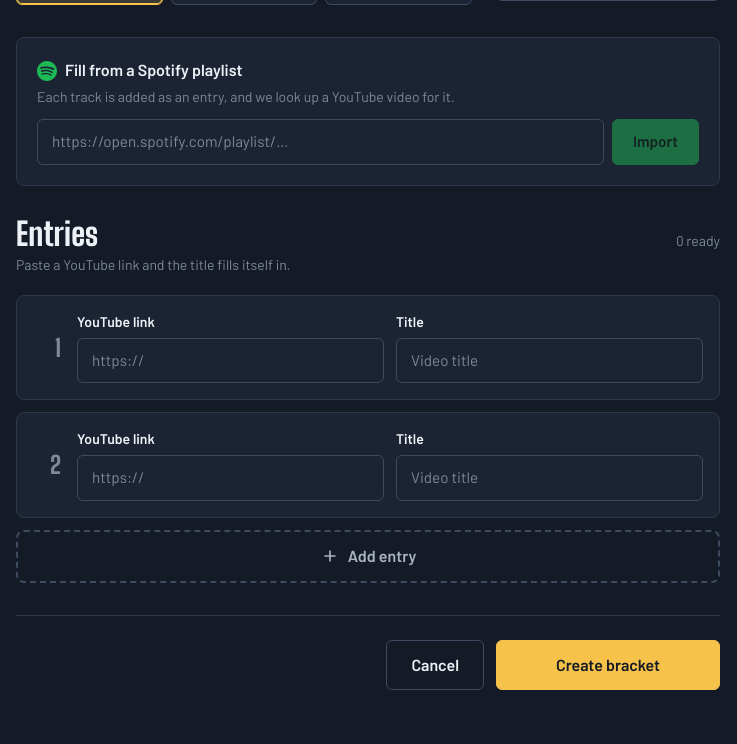
CustomBracketPage › a late title lookup for one entry never overwrites another entry
(page scrolled)
Type "https://youtu.be/AAAAAAAAAAA" into the 1st field labelled "YouTube link" at coordinates (230, 361), box [77,338,384,383]
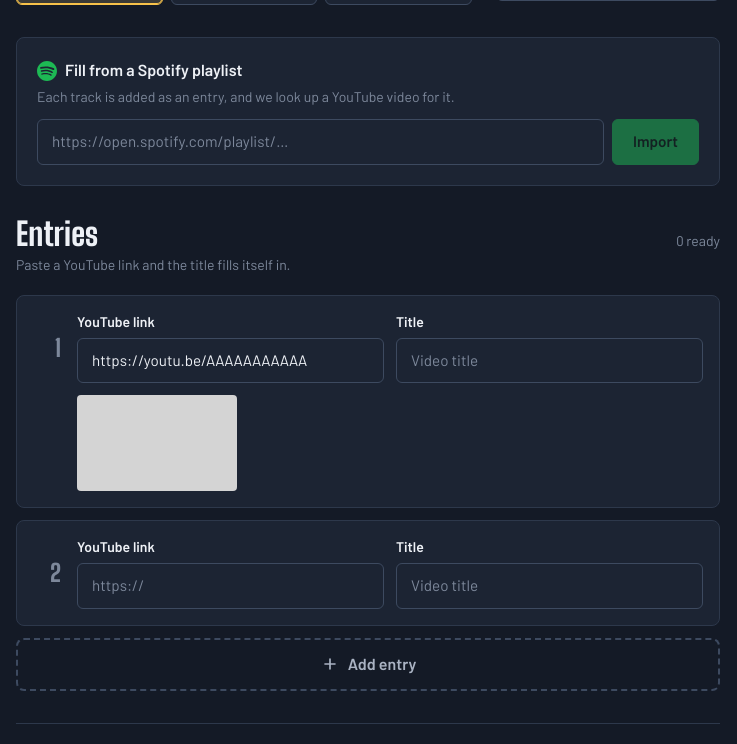
Type "https://youtu.be/BBBBBBBBBBB" into the 2nd field labelled "YouTube link" at coordinates (230, 586), box [77,563,384,609]
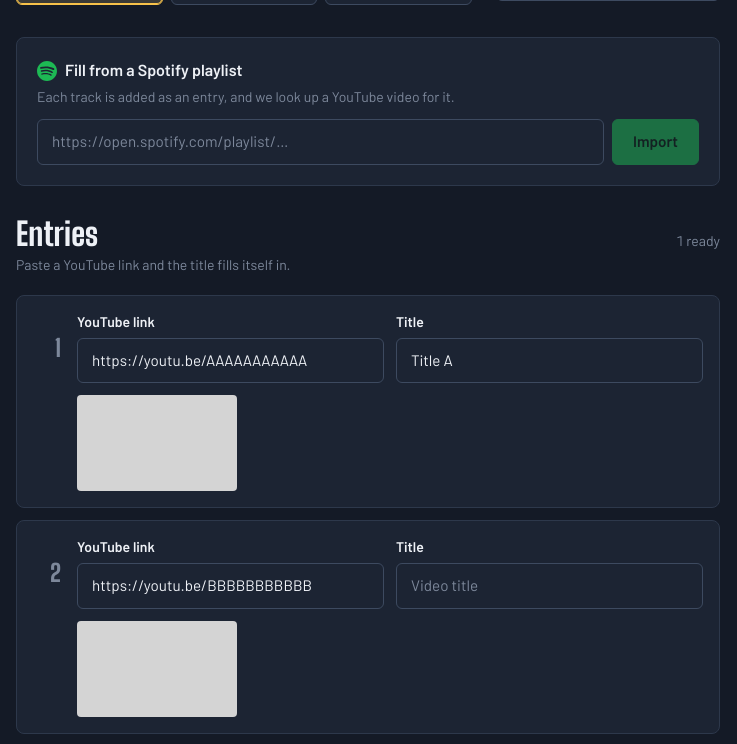
Expected: the 2nd field labelled "Title" is empty, [396,563,703,609]
Now the 1st field labelled "Title" holds "Title A", box [396,338,703,383]
